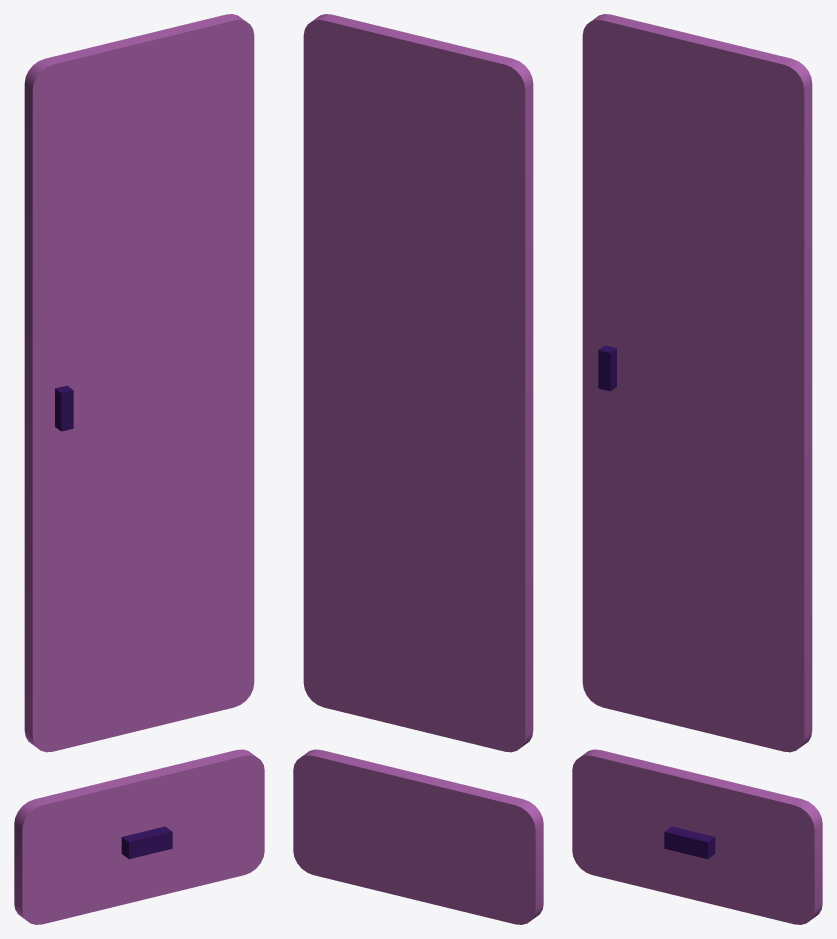
Rendered from Puertas_drc_armario.fbx.
3 renders of one model, left to right at view 1: azimuth 30°, elevation 25°; view 2: azimuth 150°, elevation 25°; view 3: azimuth 330°, elevation 25°, orthographic.
Parts seen in each view (by area): view 1: Puerta02; view 2: Puerta02; view 3: Puerta02.
Boxes of the visible parts, x1=… form: Puerta02: x1=14, y1=14, x2=264, y2=924; Puerta02: x1=293, y1=14, x2=543, y2=924; Puerta02: x1=572, y1=14, x2=822, y2=924.
Bounding box in the file's own units: 0.509 × 1.72 × 0.0561.
